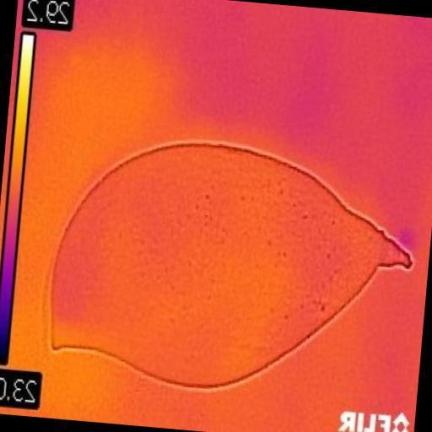mango: (53, 143, 410, 385)
